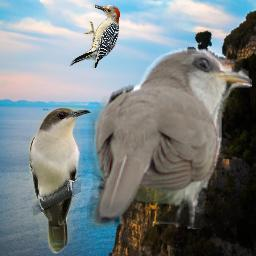Cuckoo: (87, 48, 252, 229), (29, 107, 91, 254)
Woodpecker: (68, 2, 127, 68)
